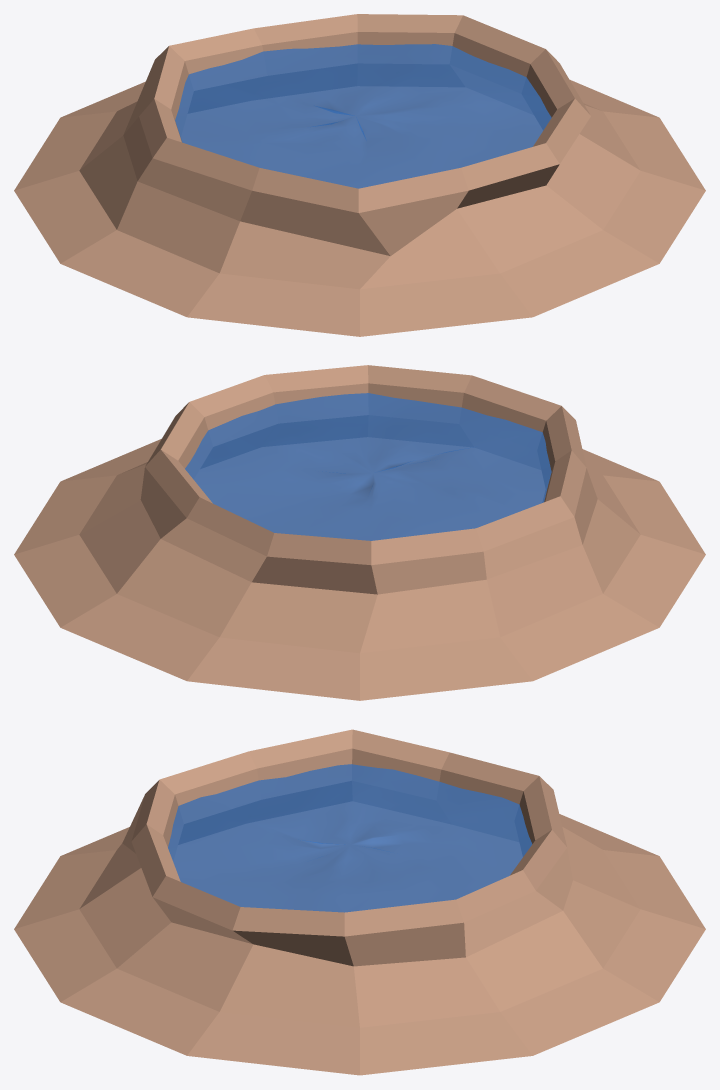
File: gayzerr.fbx
3 renders of one model, top to bottom at view 1: azimuth 30°, elevation 25°; view 2: azimuth 150°, elevation 25°; view 3: azimuth 270°, elevation 25°, orthographic.
Parts seen in each view (by area): view 1: Circle; view 2: Circle; view 3: Circle.
Boxes of the visible parts, x1,y1,x2,y2 form: Circle: (14,14,705,336); Circle: (14,365,705,700); Circle: (14,729,705,1075).
Size of the model in its own units: 616 by 102 by 616.
